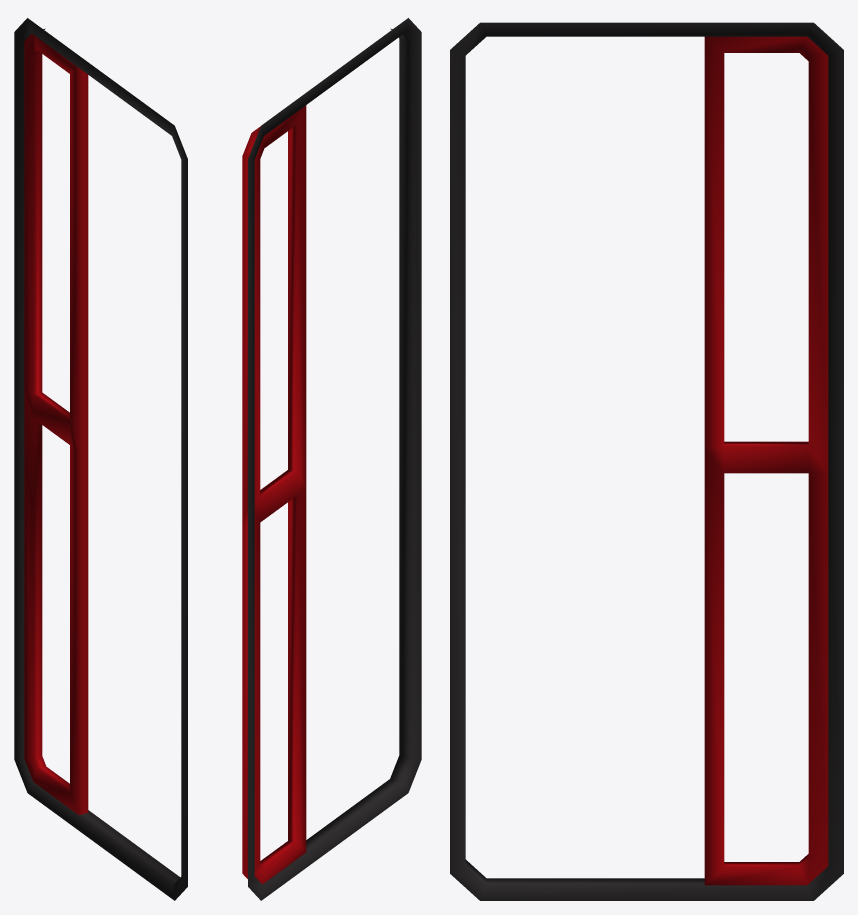
Rendered from Subway_01_Window_Large.fbx.
3 renders of one model, left to right at view 1: azimuth 30°, elevation 25°; view 2: azimuth 150°, elevation 25°; view 3: azimuth 270°, elevation 25°, orthographic. The views are drawn at different scales.
Visible parts, largest first — view 1: Subway_01_WindowLarge_low; view 2: Subway_01_WindowLarge_low; view 3: Subway_01_WindowLarge_low.
Boxes of the visible parts, <box> form: Subway_01_WindowLarge_low: <box>14,18,187,900</box>; Subway_01_WindowLarge_low: <box>242,18,421,900</box>; Subway_01_WindowLarge_low: <box>450,22,843,900</box>.
Bounding box in the file's own units: 0.06 × 2.84 × 1.15.
